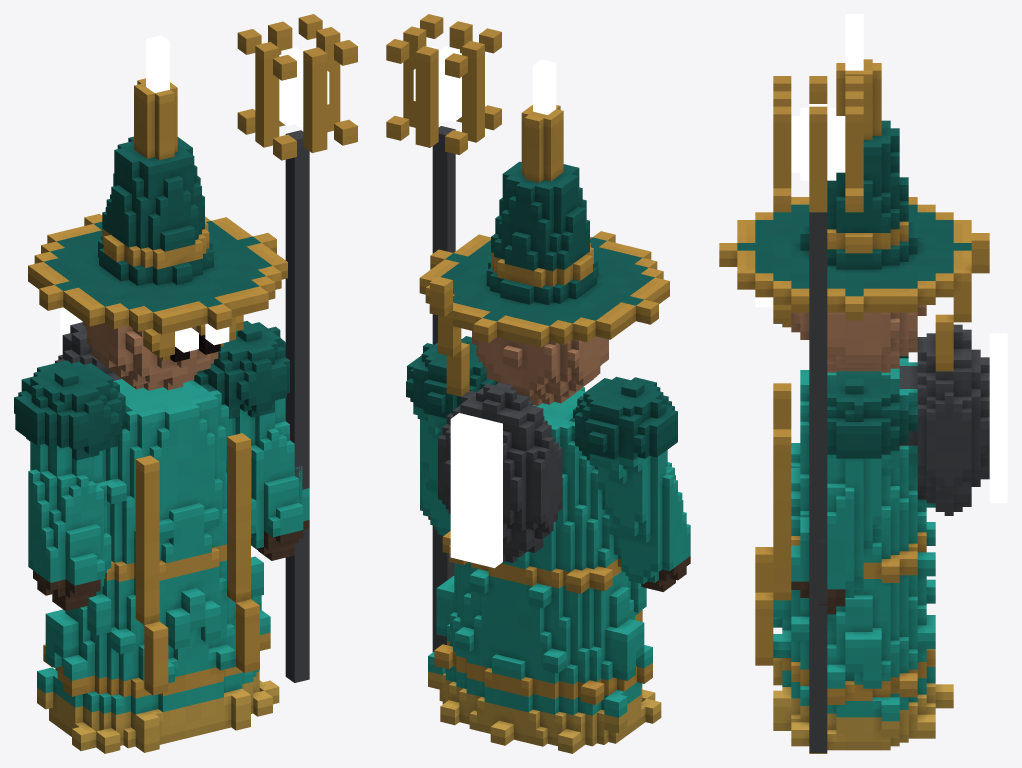
File: u_artificier__oracle.glb
3 renders of one model, left to right at view 1: azimuth 30°, elevation 25°; view 2: azimuth 150°, elevation 25°; view 3: azimuth 270°, elevation 25°, orthographic. The views are drawn at different scales.
Visible parts, largest first — view 1: artificier_body, artificier_weapon, artificier_glow, artificier_weaponglow; view 2: artificier_body, artificier_weapon, artificier_glow, artificier_weaponglow; view 3: artificier_body, artificier_weapon, artificier_glow, artificier_weaponglow.
Part boxes in pixels (bbox=[...]): artificier_body: bbox=[14, 78, 309, 753]; artificier_weapon: bbox=[237, 14, 357, 682]; artificier_glow: bbox=[60, 35, 229, 355]; artificier_weaponglow: bbox=[279, 47, 329, 127]; artificier_body: bbox=[406, 105, 690, 753]; artificier_weapon: bbox=[386, 14, 501, 651]; artificier_glow: bbox=[450, 59, 556, 567]; artificier_weaponglow: bbox=[413, 46, 461, 123]; artificier_body: bbox=[719, 59, 989, 753]; artificier_weapon: bbox=[773, 76, 863, 752]; artificier_glow: bbox=[755, 14, 1007, 503]; artificier_weaponglow: bbox=[791, 104, 845, 180].
Size of the model in its own units: 0.95 by 2.1 by 0.8.
